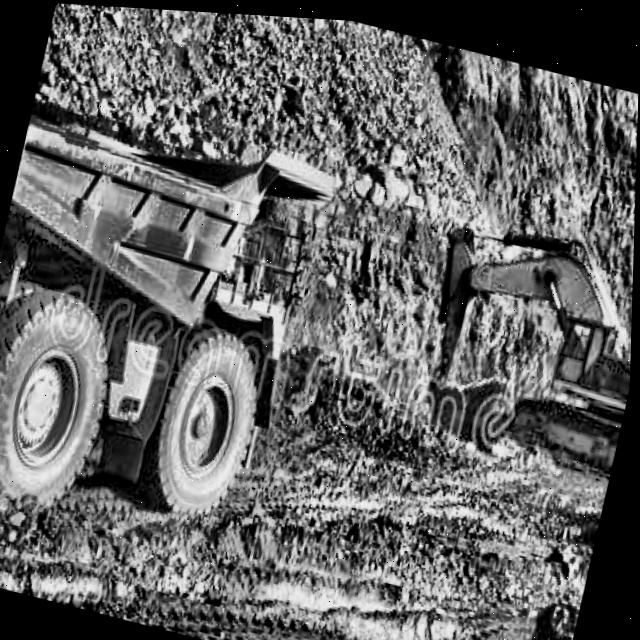dump_truck: (0, 49, 389, 604)
excavator: (383, 155, 637, 498)
